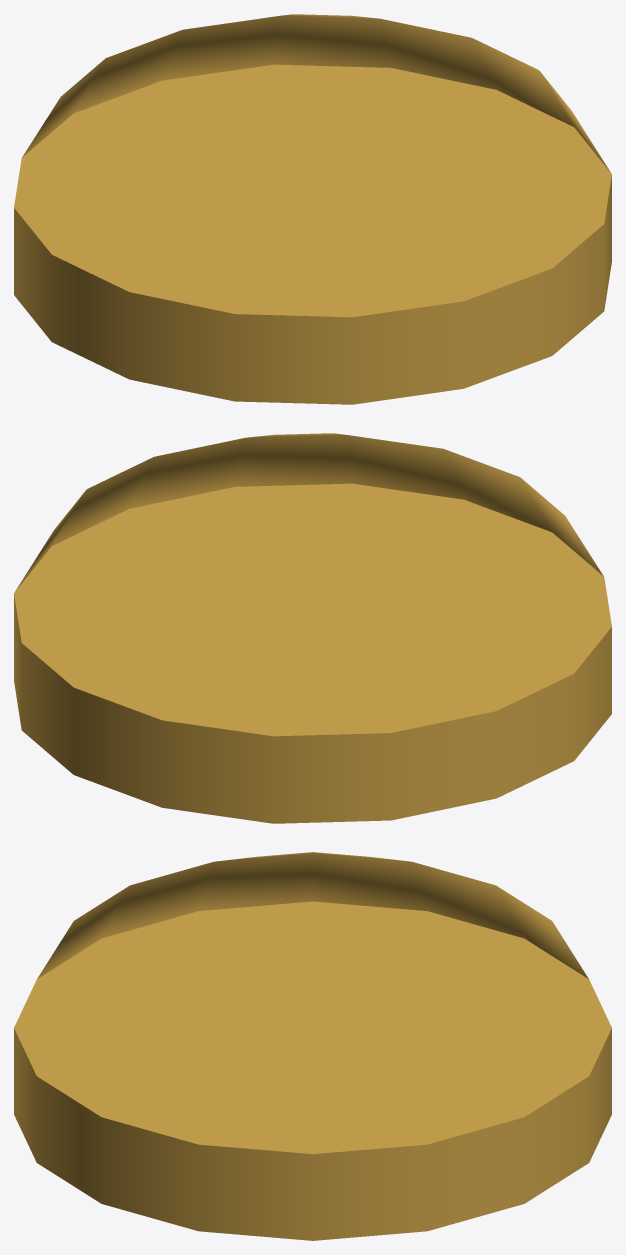
The picture shows the model from 3 angles, top to bottom: view 1: azimuth 30°, elevation 25°; view 2: azimuth 150°, elevation 25°; view 3: azimuth 270°, elevation 25°; orthographic projection.
Visible parts, largest first — view 1: ding-door@1.0.0; view 2: ding-door@1.0.0; view 3: ding-door@1.0.0.
Part boxes in pixels (x1,y1,x2,y2): ding-door@1.0.0: [14, 14, 611, 404]; ding-door@1.0.0: [14, 433, 611, 823]; ding-door@1.0.0: [14, 852, 611, 1240].
Size of the model in its own units: 0.25 by 0.1 by 0.25.
